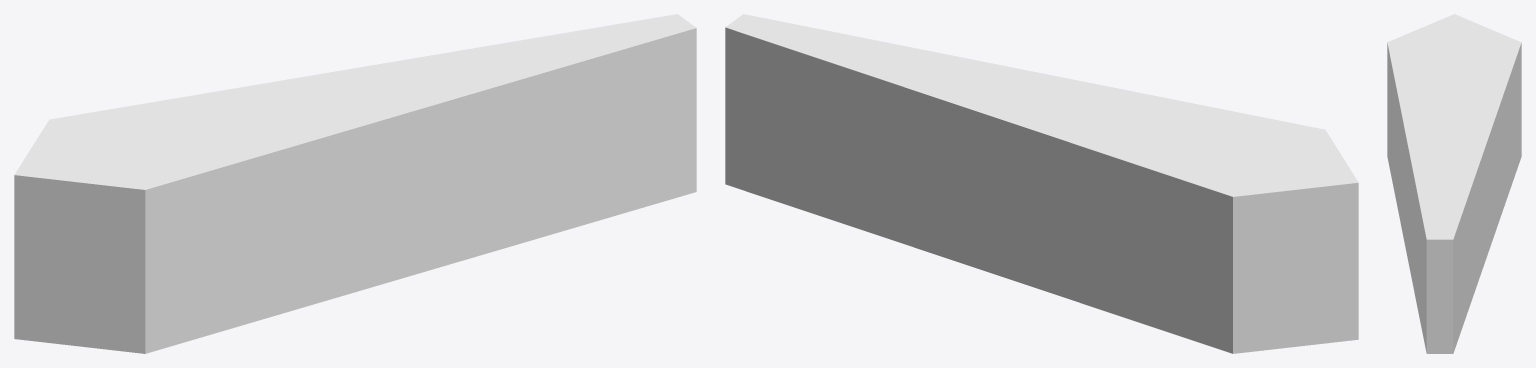
Rendered from paddle_left.obj.
3 renders of one model, left to right at view 1: azimuth 30°, elevation 25°; view 2: azimuth 150°, elevation 25°; view 3: azimuth 270°, elevation 25°, orthographic. The views are drawn at different scales.
Visible parts, largest first — view 1: Plane.011; view 2: Plane.011; view 3: Plane.011.
Boxes of the visible parts, left/top/right/bottom form: Plane.011: left=14, top=14, right=696, bottom=353; Plane.011: left=725, top=14, right=1358, bottom=353; Plane.011: left=1387, top=14, right=1521, bottom=353.
Bounding box in the file's own units: 1.65 × 0.3909 × 0.4156.
Materials: 1 (1 with a texture image).
